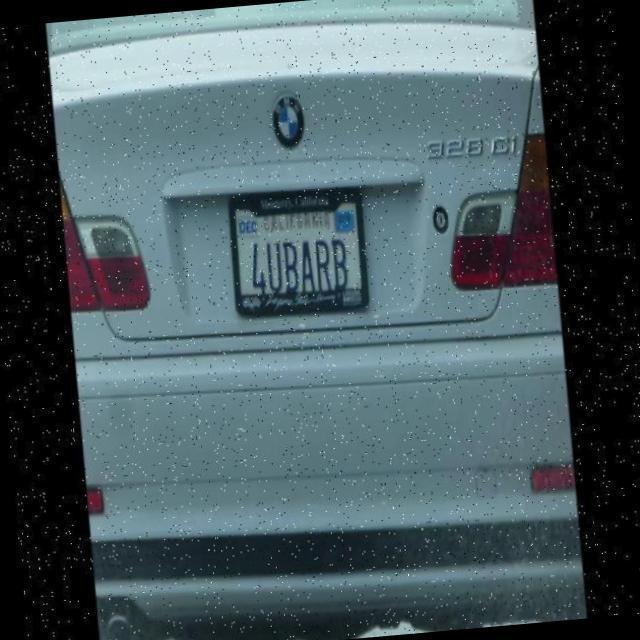license_plate: (226, 193, 370, 331)
